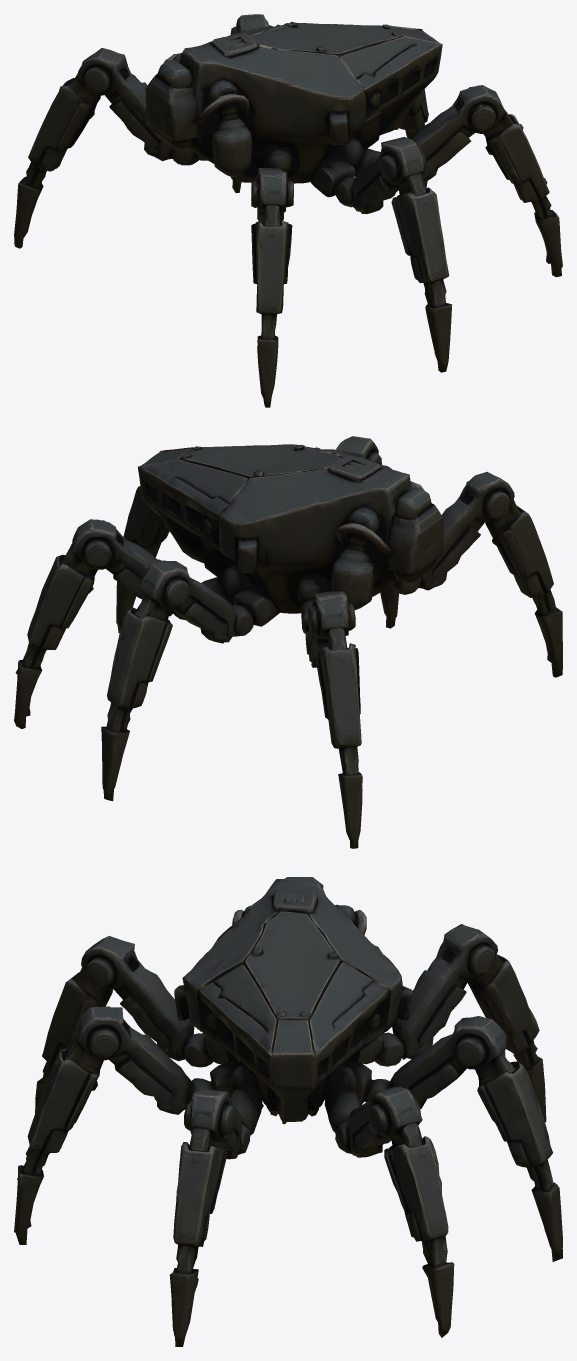
Rendered from sci-fi_spider_drone.glb.
The picture shows the model from 3 angles, top to bottom: view 1: azimuth 30°, elevation 25°; view 2: azimuth 150°, elevation 25°; view 3: azimuth 270°, elevation 25°; orthographic projection. The views are drawn at different scales.
Visible parts, largest first — view 1: tripo_node_a22ba37c-eeb8-447e-9164-23d53d72569e_0; view 2: tripo_node_a22ba37c-eeb8-447e-9164-23d53d72569e_0; view 3: tripo_node_a22ba37c-eeb8-447e-9164-23d53d72569e_0.
Boxes of the visible parts, box(x1,y1,x2,y2) form: tripo_node_a22ba37c-eeb8-447e-9164-23d53d72569e_0: box(14, 14, 562, 407); tripo_node_a22ba37c-eeb8-447e-9164-23d53d72569e_0: box(14, 436, 562, 848); tripo_node_a22ba37c-eeb8-447e-9164-23d53d72569e_0: box(14, 877, 562, 1346).
Bounding box in the file's own units: 0.9241 × 0.6007 × 1.
Materials: 1 (1 with a texture image).
